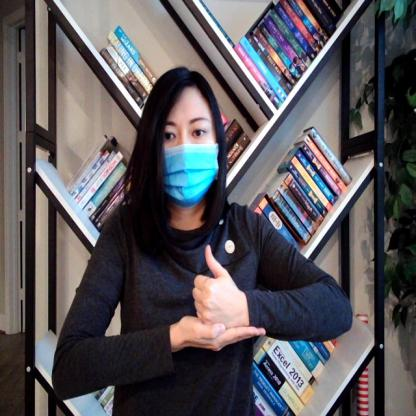help: (170, 245, 271, 356)
